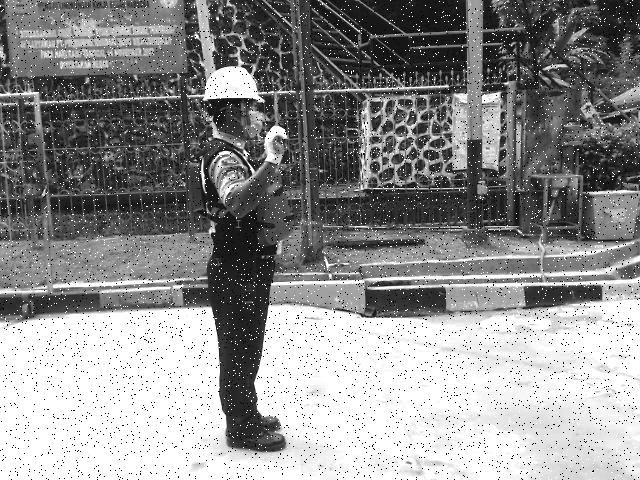glasses: (219, 101, 261, 111)
gloves: (262, 124, 289, 166)
helmet: (201, 65, 264, 103)
mask: (245, 111, 263, 140)
safety-shoes: (224, 427, 287, 454), (255, 412, 282, 431)
vest: (185, 152, 298, 250)
